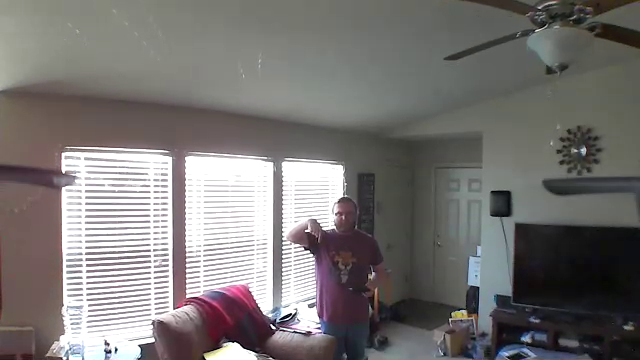down: (305, 217, 325, 245)
